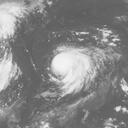cyclone: (50, 47, 103, 97)
